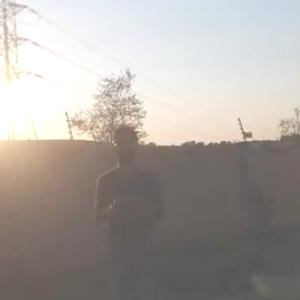follow: (89, 121, 168, 299)
